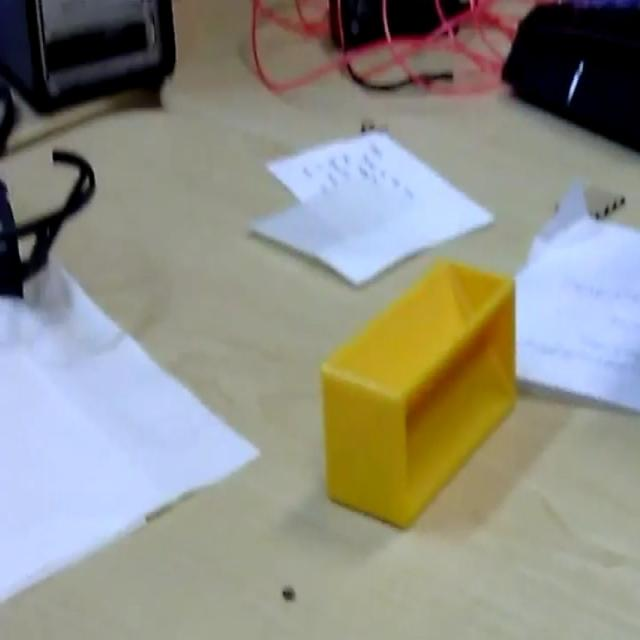yellow_block: (319, 258, 518, 530)
